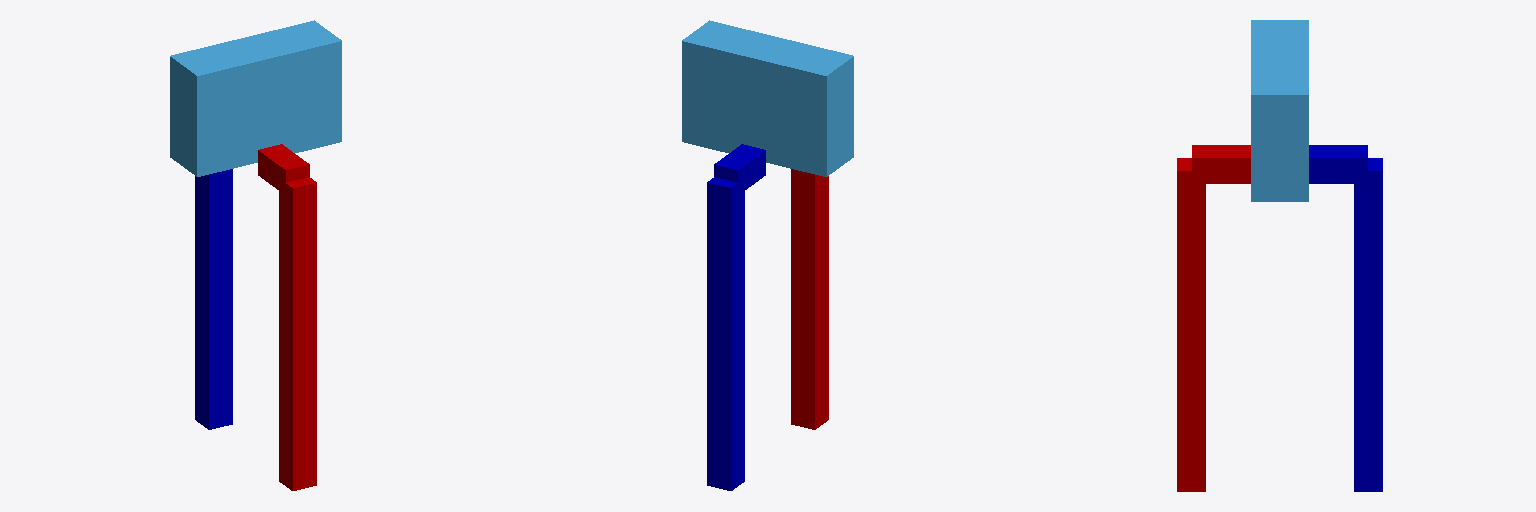
URDF robot description (Airbot):
<?xml version="1.0" ?>
<!-- =================================================================================== -->
<!-- |    This document was autogenerated by xacro from airbot3.xacro                  | -->
<!-- |    EDITING THIS FILE BY HAND IS NOT RECOMMENDED                                 | -->
<!-- =================================================================================== -->
<robot name="Airbot" xmlns:xacro="http://www.ros.org/wiki/xacro">
  <!--Structural Properties-->
  <link name="baselink"/>
  <link name="airbase">
    <visual>
      <geometry>
        <box size="0.3 0.1 0.2"/>
      </geometry>
    </visual>
    <inertial>
      <mass value="3"/>
      <inertia ixx="0.01296" ixy="0.0" ixz="0.0" iyy="0.01296" iyz="0.0" izz="0.02523"/>
    </inertial>
  </link>
  <link name="link1">
    <visual>
      <origin rpy="0 0 0" xyz="0.0 0.05 0.0"/>
      <material name="blue">
        <color rgba="0 0 0.8 1"/>
      </material>
      <geometry>
        <box size="0.05 0.1 0.05"/>
      </geometry>
    </visual>
    <inertial>
      <origin rpy="0 0 0" xyz="0.0 0.05 0.0"/>
      <mass value="0.2"/>
      <inertia ixx="0.000833333333333" ixy="0.0" ixz="0.0" iyy="0.000333333333333" iyz="0.0" izz="0.000833333333333"/>
    </inertial>
  </link>
  <link name="link2">
    <visual>
      <origin rpy="0 0 0" xyz="0.0 0.0 -0.15"/>
      <geometry>
        <box size="0.05 0.05 0.3"/>
      </geometry>
      <material name="blue">
        <color rgba="0 0 0.8 1"/>
      </material>
    </visual>
    <inertial>
      <origin rpy="0 0 0" xyz="0.0 0.0 -0.15"/>
      <mass value="0.3"/>
      <inertia ixx="0.00925" ixy="0.0" ixz="0.0" iyy="0.00925" iyz="0.0" izz="0.0005"/>
    </inertial>
  </link>
  <link name="link3">
    <visual>
      <origin rpy="0 0 0" xyz="0.0 0.0 -0.15"/>
      <geometry>
        <box size="0.05 0.05 0.3"/>
      </geometry>
      <material name="blue">
        <color rgba="0 0 0.8 1"/>
      </material>
    </visual>
    <inertial>
      <origin rpy="0 0 0" xyz="0.0 0.0 -0.15"/>
      <mass value="0.2"/>
      <inertia ixx="0.00616666666667" ixy="0.0" ixz="0.0" iyy="0.00616666666667" iyz="0.0" izz="0.000333333333333"/>
    </inertial>
  </link>
  <link name="link4">
    <visual>
      <origin rpy="0 0 0" xyz="0.0 -0.05 0.0"/>
      <material name="red">
        <color rgba="0.8 0 0 1"/>
      </material>
      <geometry>
        <box size="0.05 0.1 0.05"/>
      </geometry>
    </visual>
    <inertial>
      <origin rpy="0 0 0" xyz="0.0 -0.05 0.0"/>
      <mass value="0.2"/>
      <inertia ixx="0.000833333333333" ixy="0.0" ixz="0.0" iyy="0.000333333333333" iyz="0.0" izz="0.000833333333333"/>
    </inertial>
  </link>
  <link name="link5">
    <visual>
      <origin rpy="0 0 0" xyz="0.0 0.0 -0.15"/>
      <geometry>
        <box size="0.05 0.05 0.3"/>
      </geometry>
      <material name="red">
        <color rgba="0.8 0 0 1"/>
      </material>
    </visual>
    <inertial>
      <origin rpy="0 0 0" xyz="0.0 0.0 -0.15"/>
      <mass value="0.3"/>
      <inertia ixx="0.00925" ixy="0.0" ixz="0.0" iyy="0.00925" iyz="0.0" izz="0.0005"/>
    </inertial>
  </link>
  <link name="link6">
    <visual>
      <origin rpy="0 0 0" xyz="0.0 0.0 -0.15"/>
      <geometry>
        <box size="0.05 0.05 0.3"/>
      </geometry>
      <material name="red">
        <color rgba="0.8 0 0 1"/>
      </material>
    </visual>
    <inertial>
      <origin rpy="0 0 0" xyz="0.0 0.0 -0.15"/>
      <mass value="0.2"/>
      <inertia ixx="0.00616666666667" ixy="0.0" ixz="0.0" iyy="0.00616666666667" iyz="0.0" izz="0.000333333333333"/>
    </inertial>
  </link>
  <!-- Joints -->
  <joint name="basetoairbase" type="fixed">
    <parent link="baselink"/>
    <child link="airbase"/>
    <origin rpy="0 0 0" xyz="0 0 0"/>
  </joint>
  <joint name="airbasetolink1" type="revolute">
    <parent link="airbase"/>
    <child link="link1"/>
    <origin rpy="0 0 0" xyz="0 0.05 -0.1"/>
    <axis xyz="0 0 1"/>
    <limit effort="30" lower="-3.14" upper="3.14" velocity="10.0"/>
  </joint>
  <joint name="link1tolink2" type="revolute">
    <parent link="link1"/>
    <child link="link2"/>
    <origin rpy="0 0 0" xyz="0 0.1 0"/>
    <axis xyz="0 1 0"/>
    <limit effort="30" lower="-3.14" upper="3.14" velocity="10.0"/>
  </joint>
  <joint name="link2tolink3" type="revolute">
    <parent link="link2"/>
    <child link="link3"/>
    <origin rpy="0 0 0" xyz="0 0 -0.3"/>
    <axis xyz="0 1 0"/>
    <limit effort="30" lower="-3.14" upper="3.14" velocity="10.0"/>
  </joint>
  <joint name="airbasetolink4" type="revolute">
    <parent link="airbase"/>
    <child link="link4"/>
    <origin rpy="0 0 0" xyz="0 -0.05 -0.1"/>
    <axis xyz="0 0 1"/>
    <limit effort="30" lower="-3.14" upper="3.14" velocity="10.0"/>
  </joint>
  <joint name="link4tolink5" type="revolute">
    <parent link="link4"/>
    <child link="link5"/>
    <origin rpy="0 0 0" xyz="0 -0.1 0"/>
    <axis xyz="0 1 0"/>
    <limit effort="30" lower="-3.14" upper="3.14" velocity="10.0"/>
  </joint>
  <joint name="link5tolink6" type="revolute">
    <parent link="link5"/>
    <child link="link6"/>
    <origin rpy="0 0 0" xyz="0 0 -0.3"/>
    <axis xyz="0 1 0"/>
    <limit effort="30" lower="-3.14" upper="3.14" velocity="10.0"/>
  </joint>
</robot>

--- Render facts (derived) ---
The picture shows the robot from 3 angles, left to right: view 1: azimuth 30°, elevation 25°; view 2: azimuth 150°, elevation 25°; view 3: azimuth 270°, elevation 25°; orthographic projection.
Model Airbot with 8 links and 7 joints (6 revolute, 1 fixed), rooted at baselink, posed every joint at zero.
Visible links, largest first — view 1: airbase, link5, link6, link3, link2, link4; view 2: airbase, link2, link3, link6, link5, link1; view 3: airbase, link3, link6, link5, link2, link1, link4.
Boxes of the visible links, x1,y1,x2,y2 form: airbase: [170, 20, 341, 176]; link5: [279, 177, 316, 339]; link6: [279, 330, 316, 490]; link3: [195, 269, 232, 429]; link2: [195, 169, 232, 277]; link4: [258, 144, 309, 195]; airbase: [682, 20, 853, 176]; link2: [707, 177, 744, 339]; link3: [707, 330, 744, 490]; link6: [791, 269, 828, 429]; link5: [791, 169, 828, 277]; link1: [714, 144, 765, 195]; airbase: [1251, 20, 1308, 201]; link3: [1354, 331, 1382, 491]; link6: [1177, 331, 1205, 491]; link5: [1177, 158, 1205, 330]; link2: [1354, 158, 1382, 330]; link1: [1309, 145, 1367, 183]; link4: [1192, 145, 1250, 183].
Bounding box of the posed robot: 0.3 × 0.35 × 0.8 m (x, y, z).
Geometry: primitives only (box / cylinder / sphere), no mesh files.